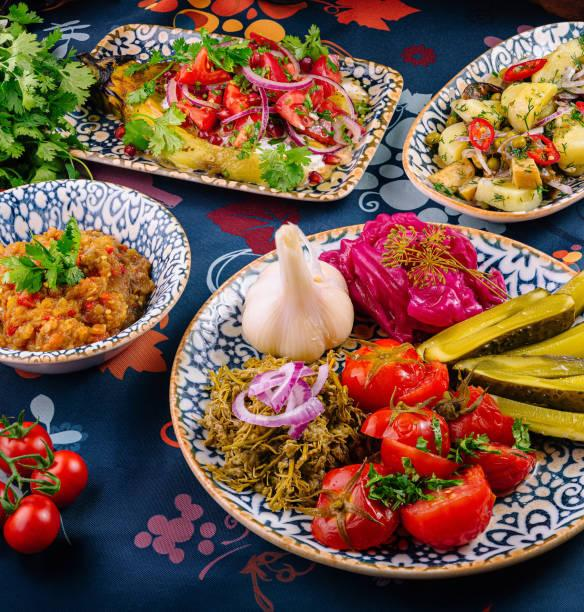Braised Crucian Carp: (168, 230, 577, 580), (63, 22, 391, 201), (401, 21, 579, 223), (5, 182, 190, 371)
